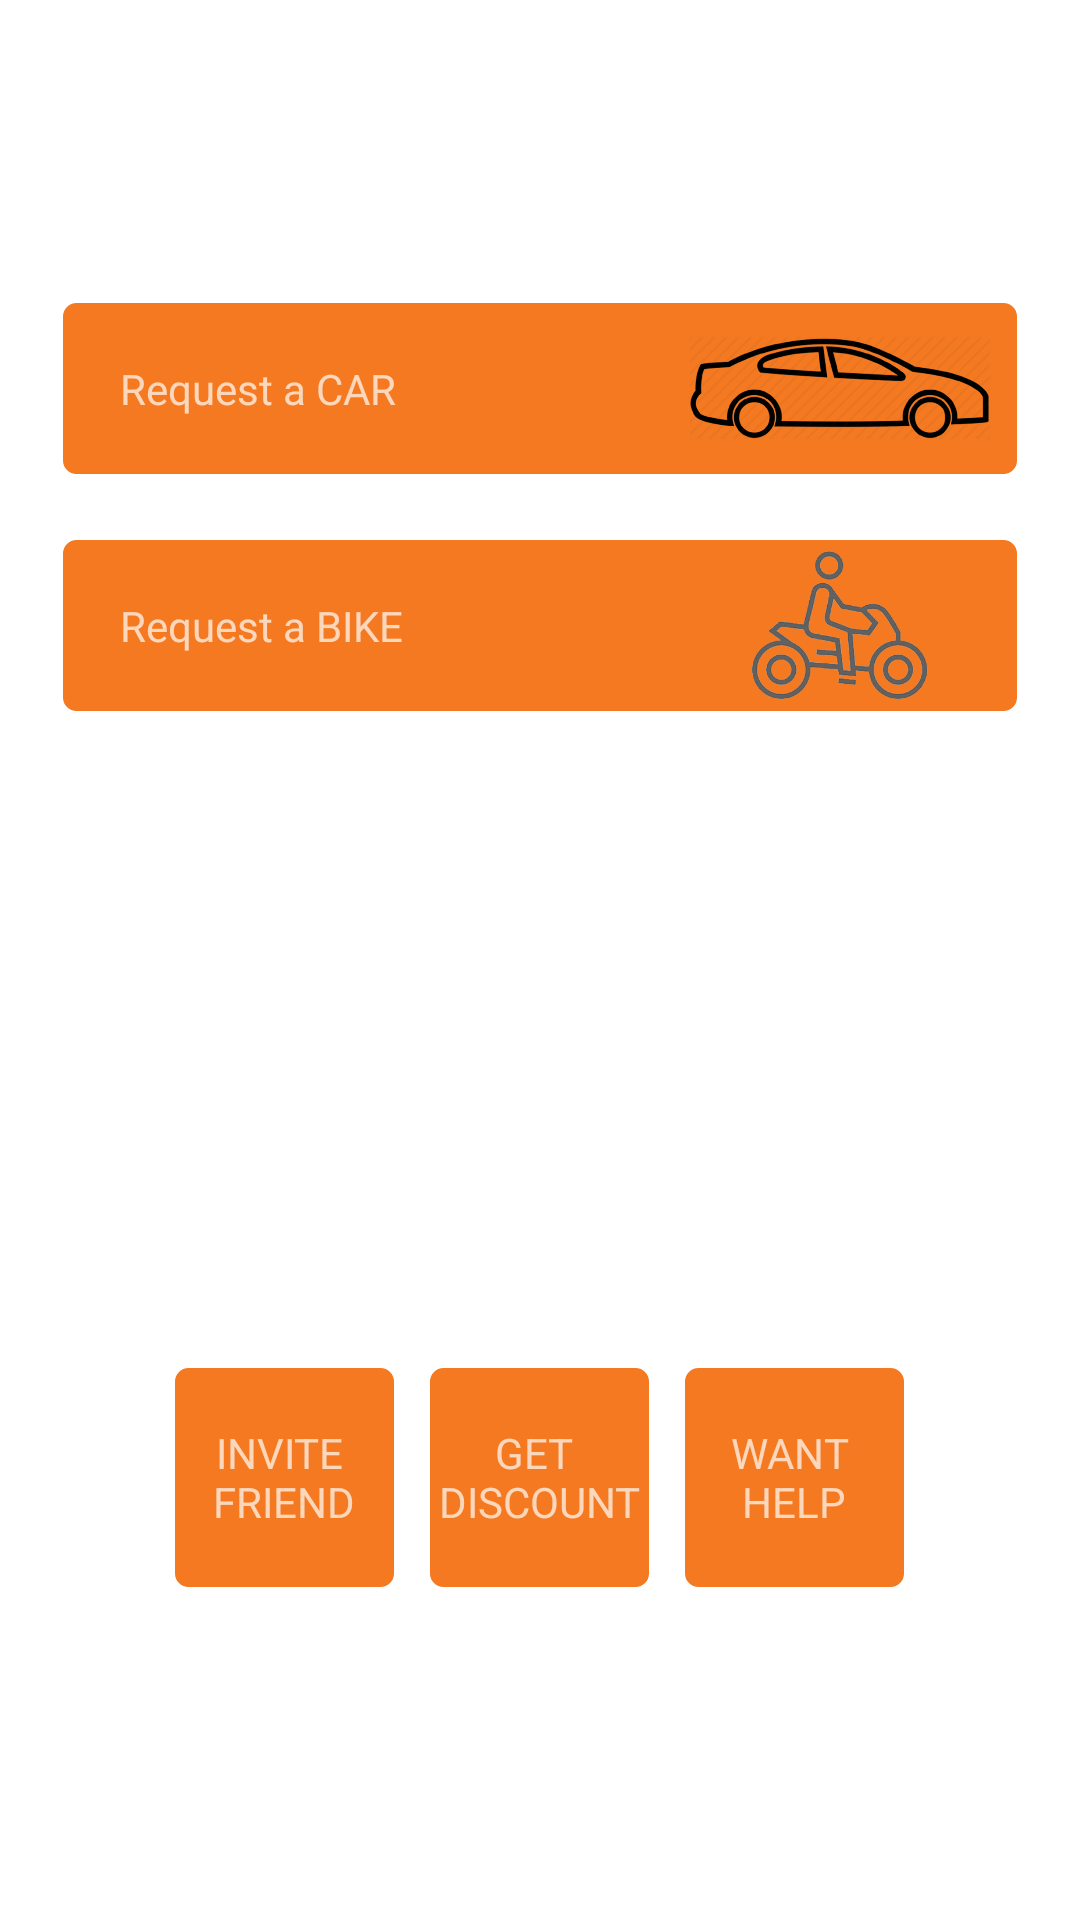

Where icons sit on this 1080 x 1920 app screen, as {"x1": x1, "y1": y1, "x2": x2, "y2": y2}:
bike: {"x1": 752, "y1": 551, "x2": 928, "y2": 699}
car: {"x1": 690, "y1": 338, "x2": 989, "y2": 438}
